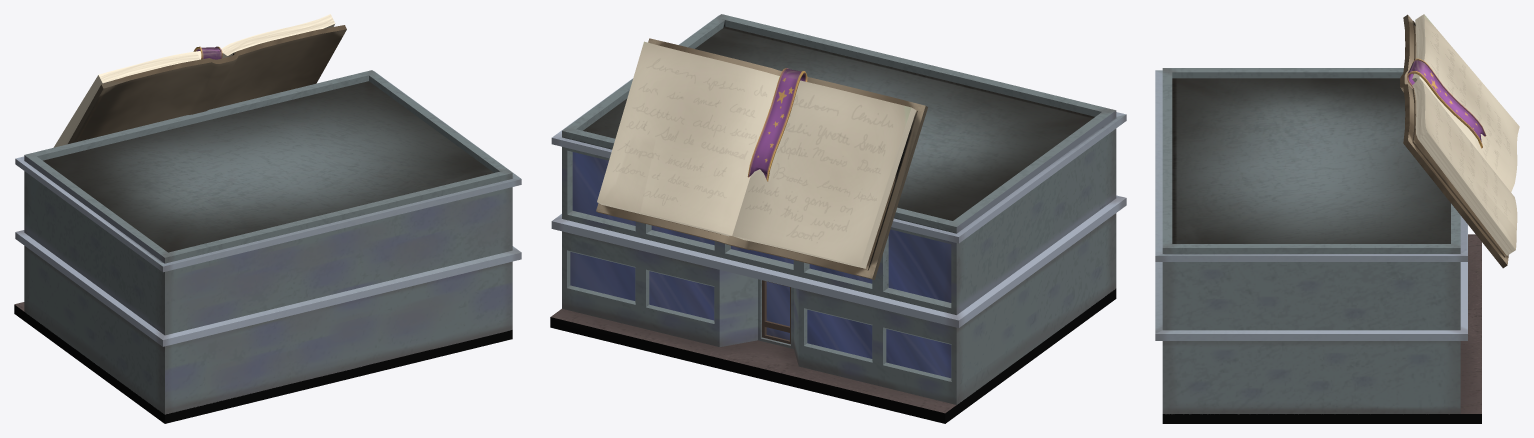
Rendered from MagicShop.fbx.
3 renders of one model, left to right at view 1: azimuth 30°, elevation 25°; view 2: azimuth 150°, elevation 25°; view 3: azimuth 270°, elevation 25°, orthographic. The views are drawn at different scales.
Visible parts, largest first — view 1: MagicShop, Spellbook, MagicShopLot; view 2: MagicShop, Spellbook, MagicShopLot; view 3: MagicShop, Spellbook, MagicShopLot.
Boxes of the visible parts, left/top/right/bottom form: MagicShop: left=15, top=70, right=521, bottom=414; Spellbook: left=53, top=14, right=346, bottom=147; MagicShopLot: left=14, top=302, right=512, bottom=423; MagicShop: left=551, top=14, right=1126, bottom=404; Spellbook: left=596, top=38, right=927, bottom=279; MagicShopLot: left=550, top=288, right=1116, bottom=423; MagicShop: left=1155, top=68, right=1467, bottom=414; Spellbook: left=1400, top=14, right=1519, bottom=268; MagicShopLot: left=1162, top=234, right=1481, bottom=423.
Bounding box in the file's own units: 2063 × 1378 × 1713.
